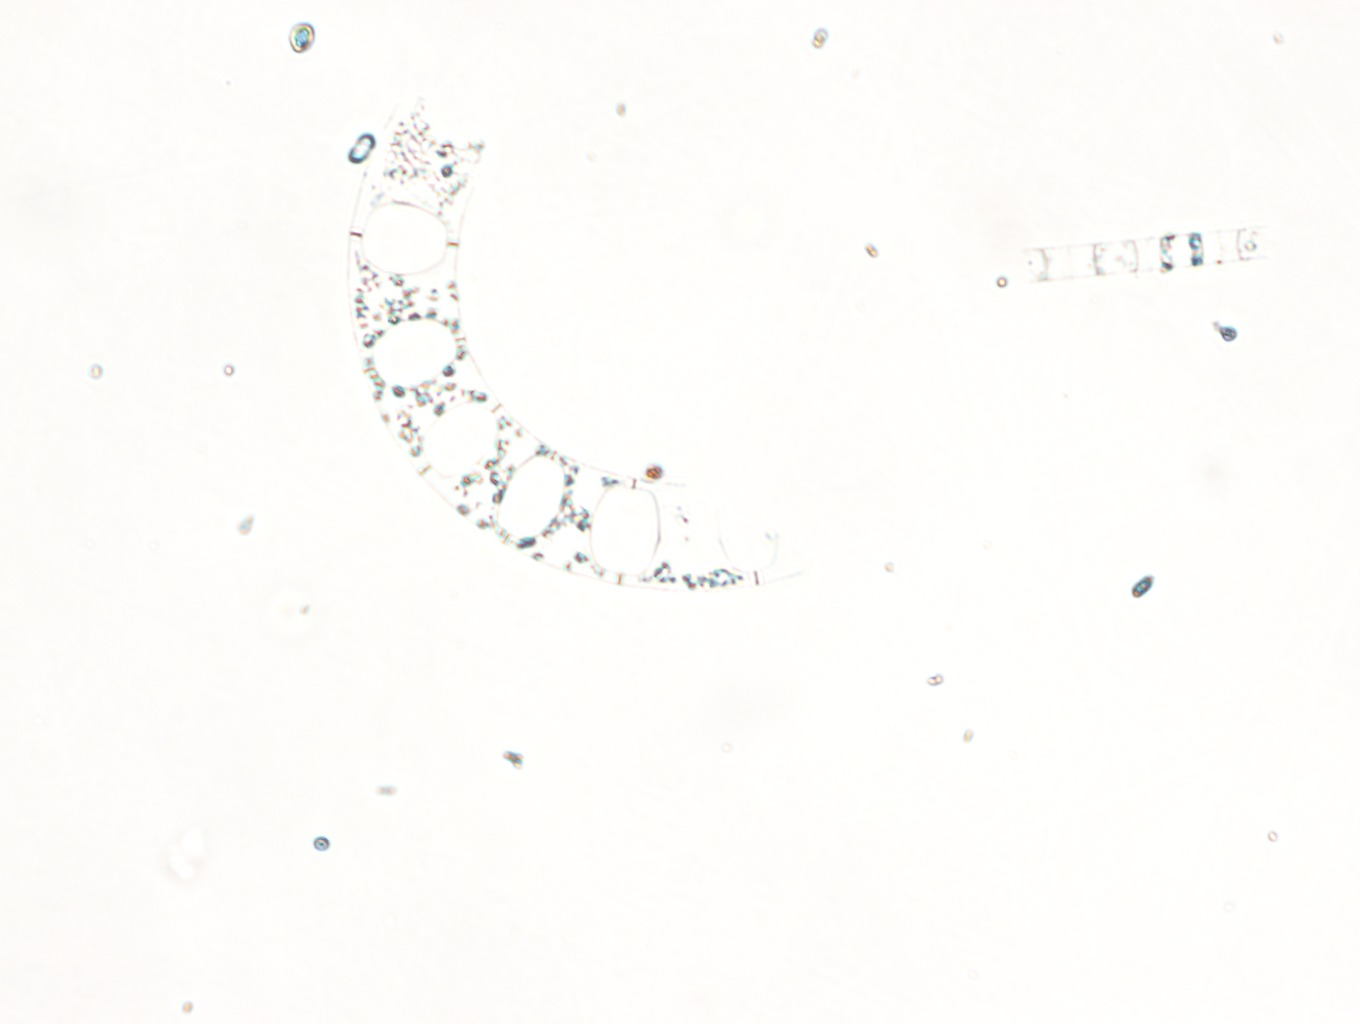eucampia: (345, 93, 818, 591)
skeletonema: (1013, 221, 1263, 289)
